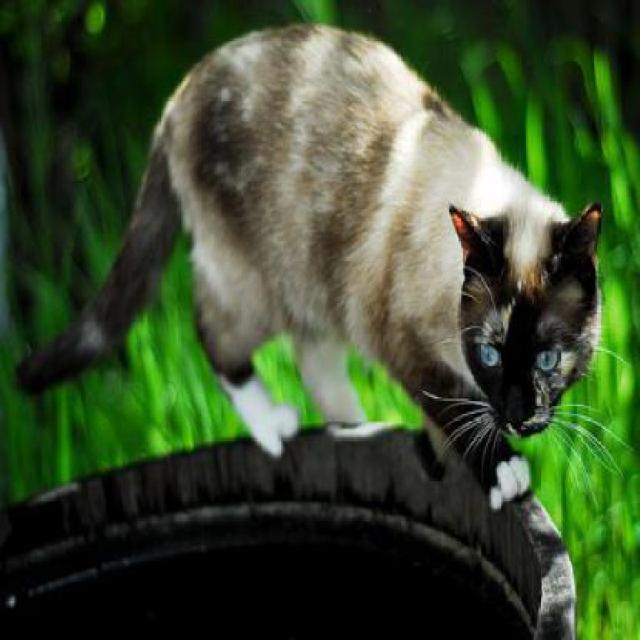cat: (14, 29, 601, 513)
